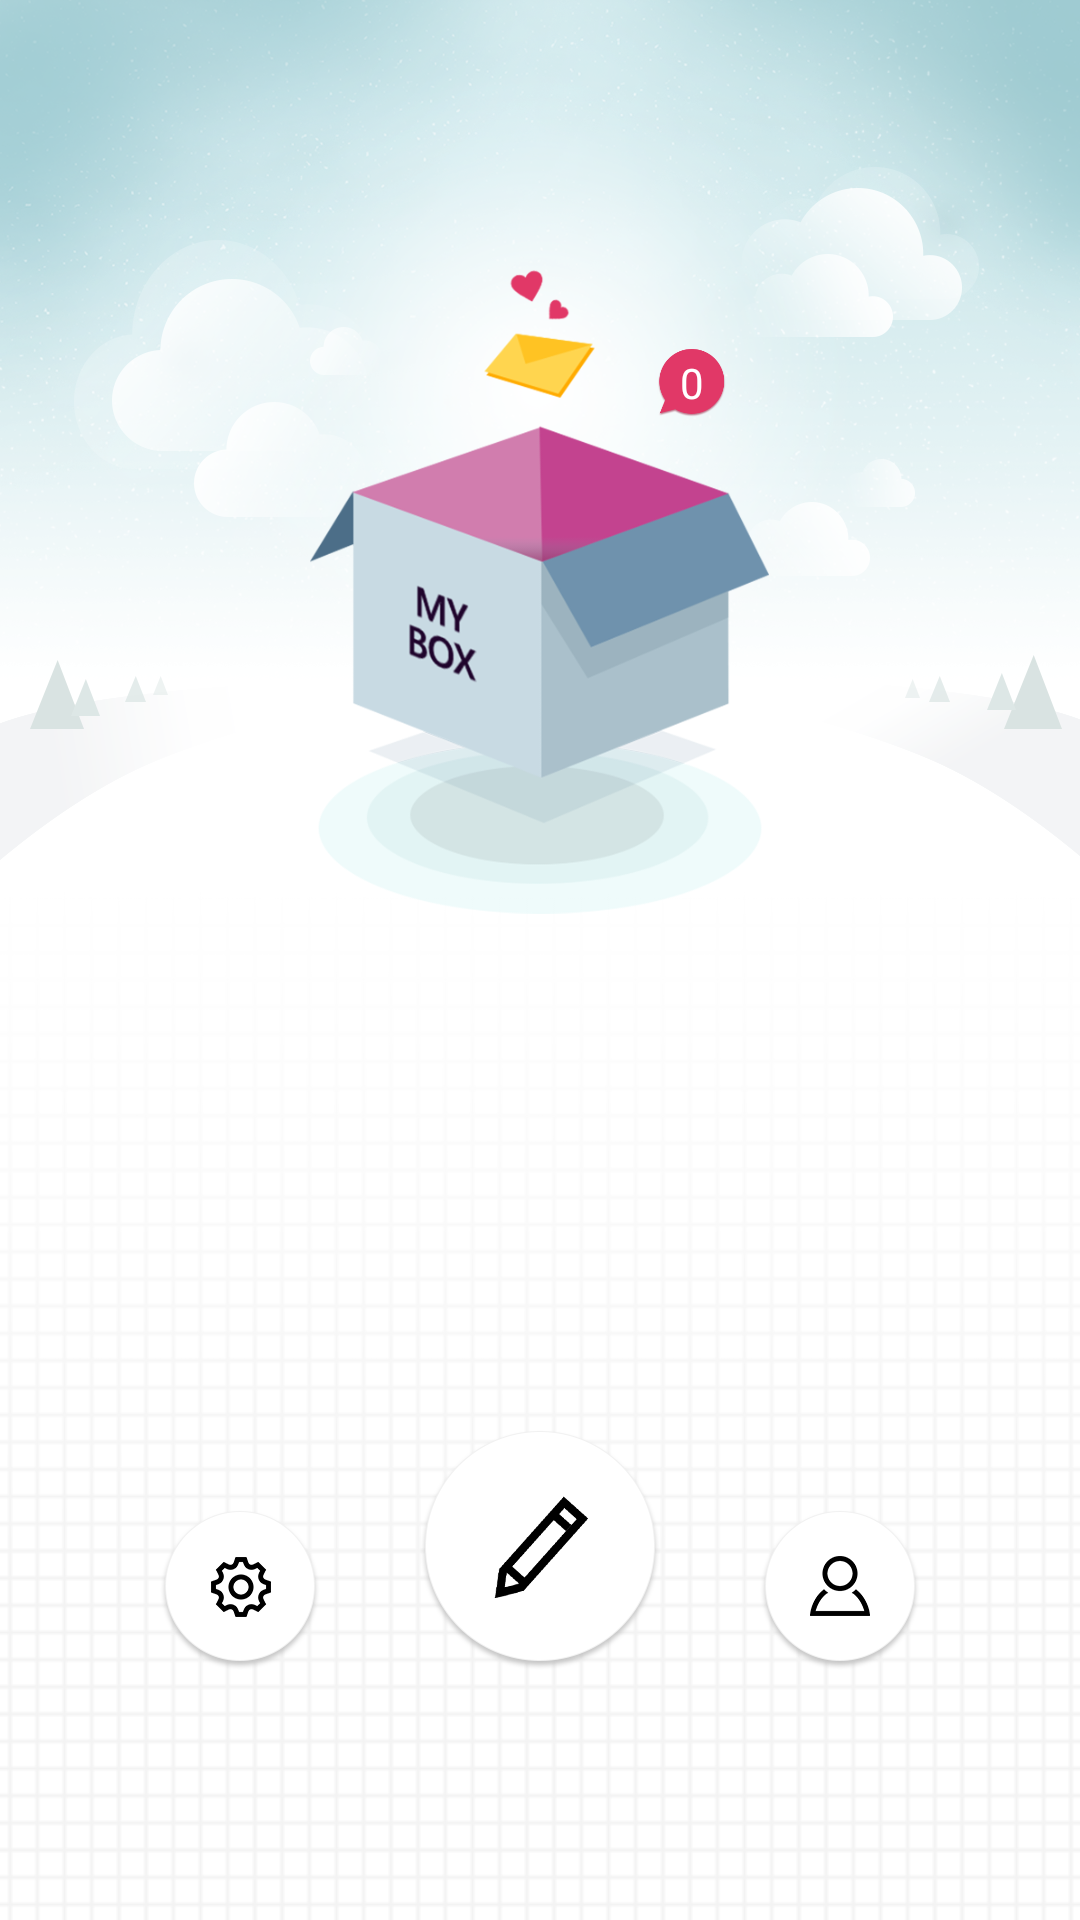

Icon bounding boxes for this 1080w x 1920h phone screenshot, format bbox=(x1, y1, x2, y2):
setting: bbox=(164, 1557, 316, 1666)
user: bbox=(764, 1556, 916, 1665)
write: bbox=(424, 1496, 656, 1666)
